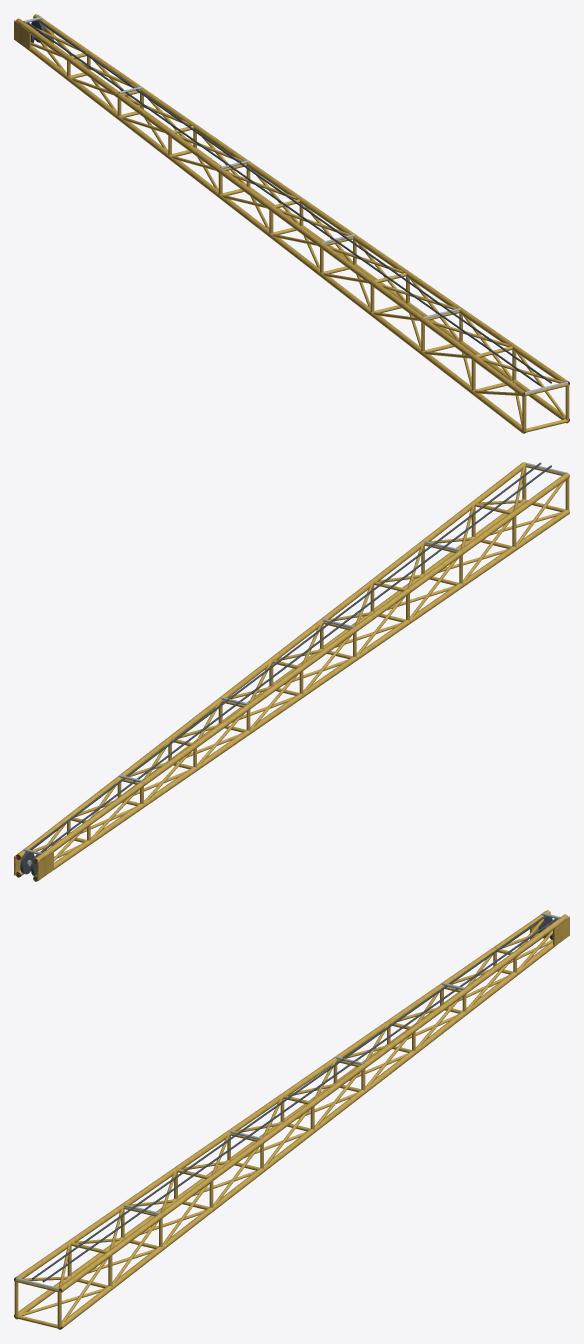
File: crane_boom_30m.glb
3 renders of one model, top to bottom at view 1: azimuth 30°, elevation 25°; view 2: azimuth 150°, elevation 25°; view 3: azimuth 330°, elevation 25°, orthographic.
Visible parts, largest first — view 1: crane_boom_30m; view 2: crane_boom_30m; view 3: crane_boom_30m.
Boxes of the visible parts, x1,y1,x2,y2 form: crane_boom_30m: (14,14,569,433); crane_boom_30m: (14,462,569,881); crane_boom_30m: (14,910,569,1329).
Bounding box in the file's own units: 1.61 × 1.44 × 30.11.
3 materials, 1 textured.
